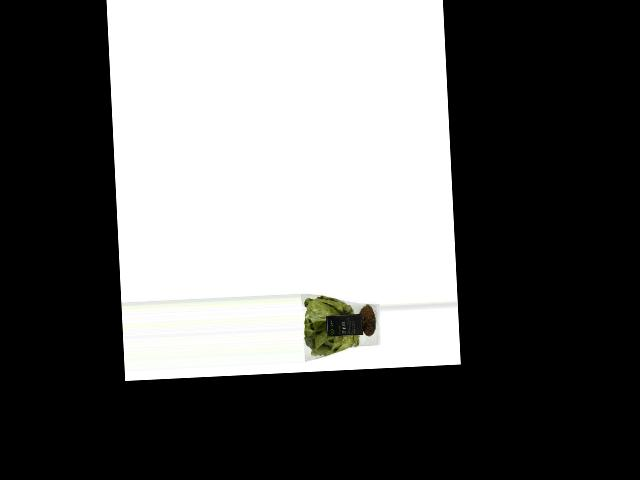lettuce: (301, 290, 382, 360)
